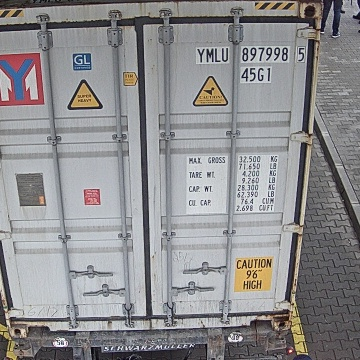serial_id: (196, 47, 304, 62)
